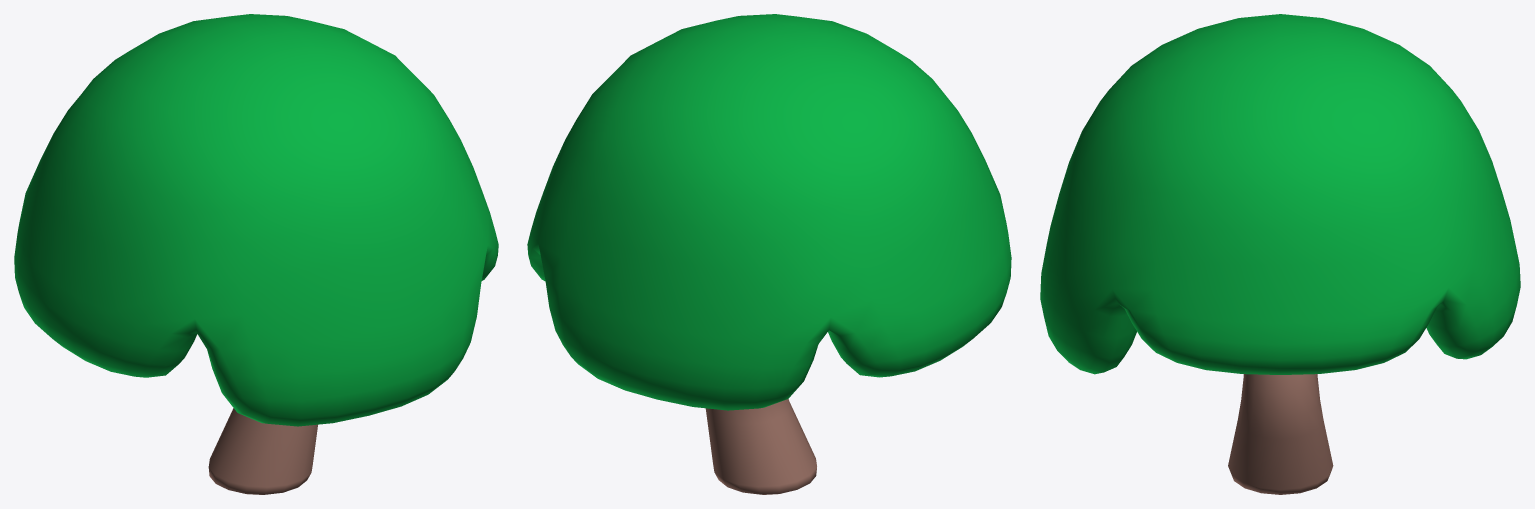
Rendered from Town_20_Bush_2.glb.
The picture shows the model from 3 angles, left to right: view 1: azimuth 30°, elevation 25°; view 2: azimuth 150°, elevation 25°; view 3: azimuth 270°, elevation 25°; orthographic projection.
Visible parts, largest first — view 1: Town_20_Bush_2; view 2: Town_20_Bush_2; view 3: Town_20_Bush_2.
Boxes of the visible parts, x1,y1,x2,y2 form: Town_20_Bush_2: [14, 14, 498, 494]; Town_20_Bush_2: [527, 14, 1011, 494]; Town_20_Bush_2: [1040, 14, 1520, 494].
Bounding box in the file's own units: 1.56 × 1.58 × 1.57.
Materials: 1 (1 with a texture image).
